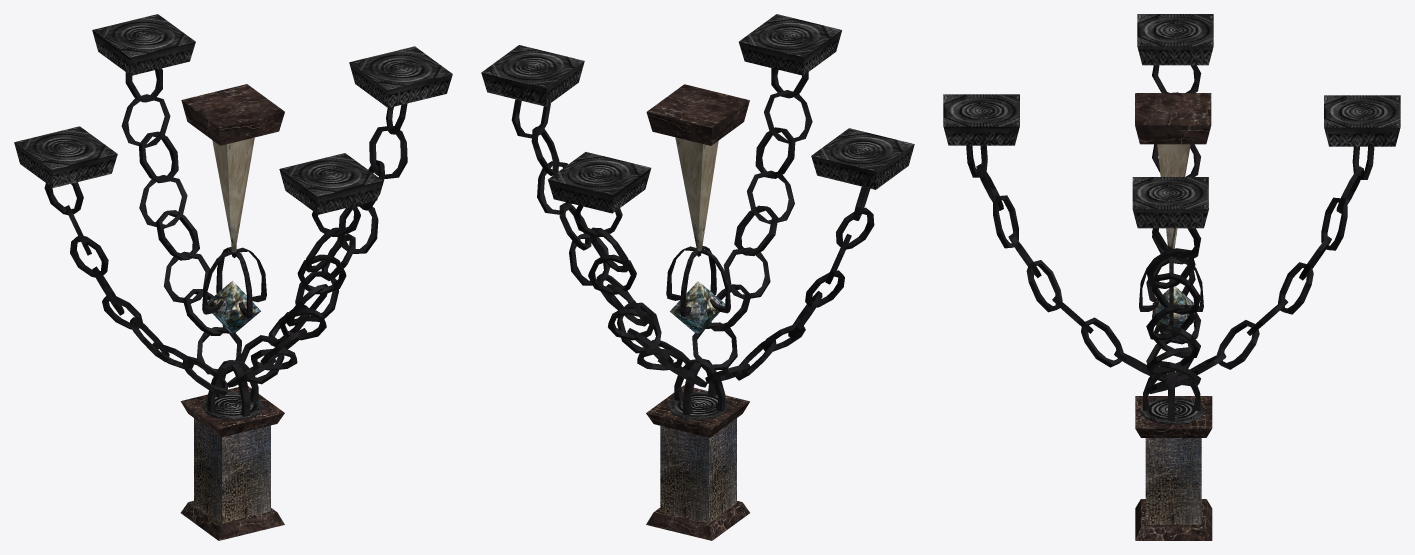
File: CHAINEDPILLAR.fbx
3 views of the same model, side by side, from view 1: azimuth 30°, elevation 25°; view 2: azimuth 150°, elevation 25°; view 3: azimuth 270°, elevation 25° (orthographic).
Visible parts, largest first — view 1: Mesh1; view 2: Mesh1; view 3: Mesh1.
Boxes of the visible parts, x1,y1,x2,y2 form: Mesh1: (14, 14, 452, 540); Mesh1: (481, 14, 914, 540); Mesh1: (943, 14, 1400, 540).
Size of the model in its own units: 33.05 by 32.73 by 32.62.
